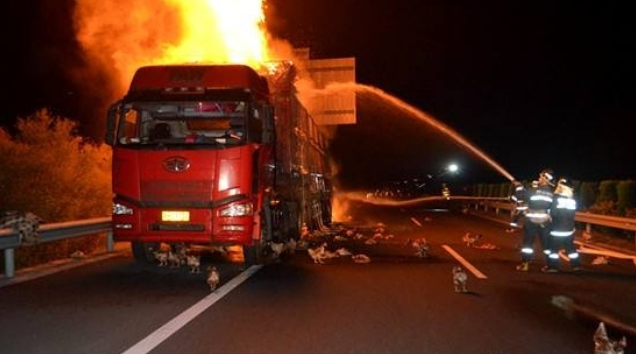喷灌水雾: (290, 79, 438, 155), (330, 187, 395, 223)
